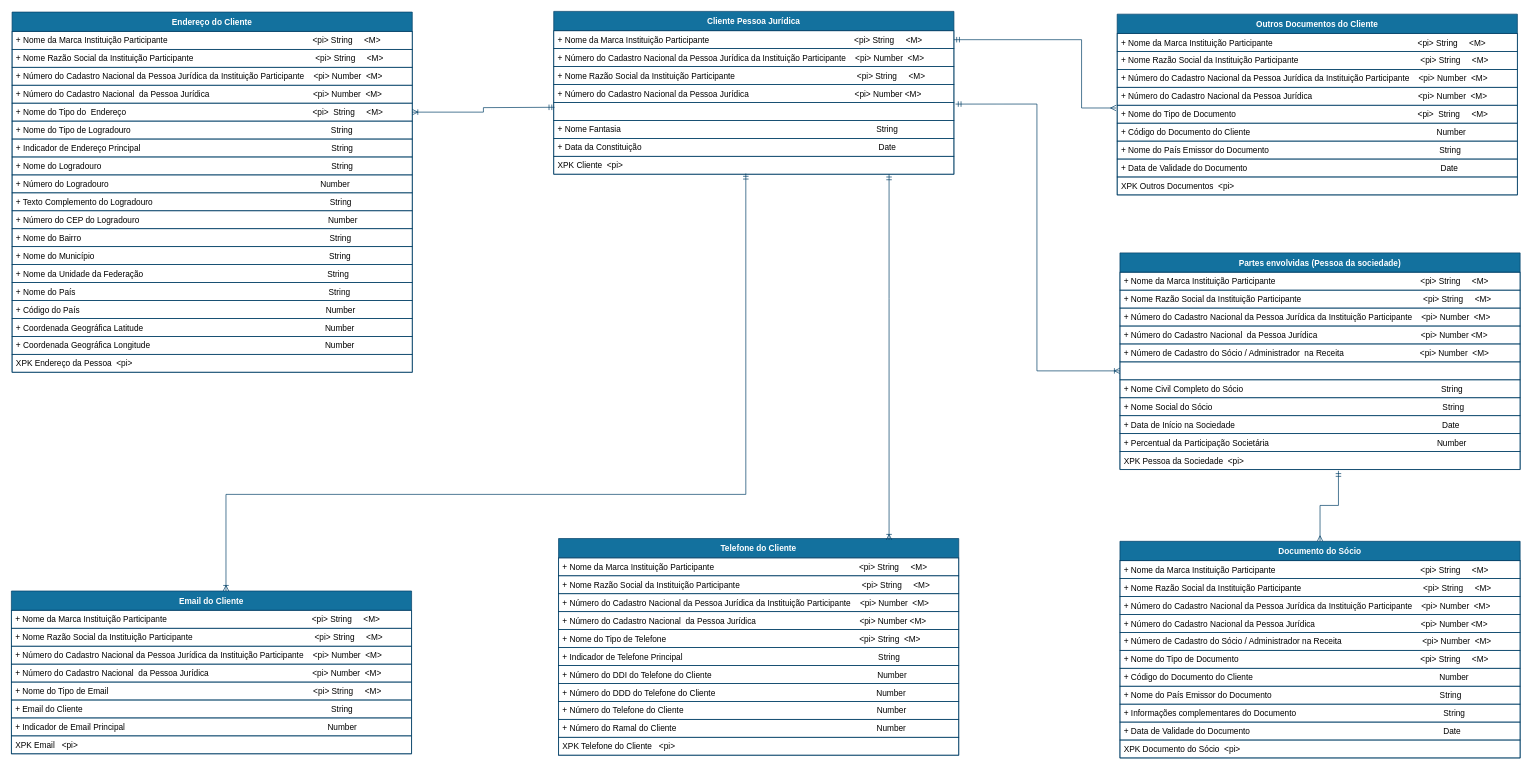
Image size: 1532x769. Some labels were removed from this diagram. The centre of each missing label's shape, as x and y in pixels:
+ Nome da Razão Social String: the point at 753,111
+ Nome do Tipo do Perfil do Sócio String: the point at 1319,370
